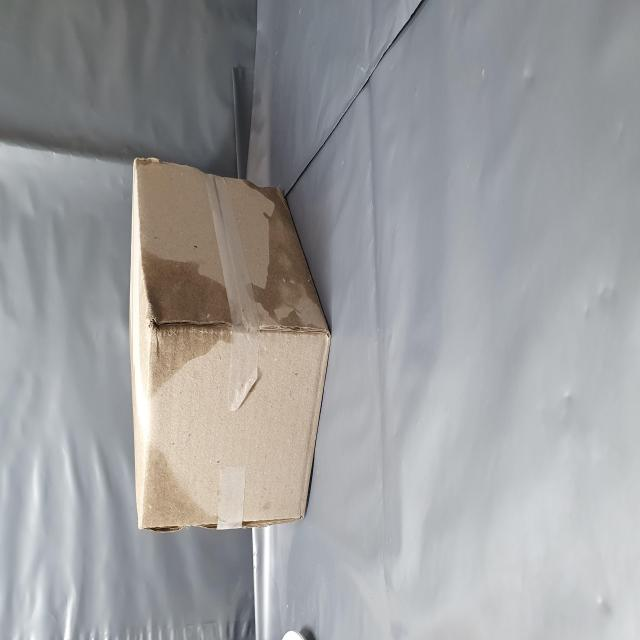wet: (142, 236, 219, 433), (159, 444, 251, 584), (58, 250, 119, 413)
